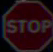Stop: (3, 2, 49, 45)
